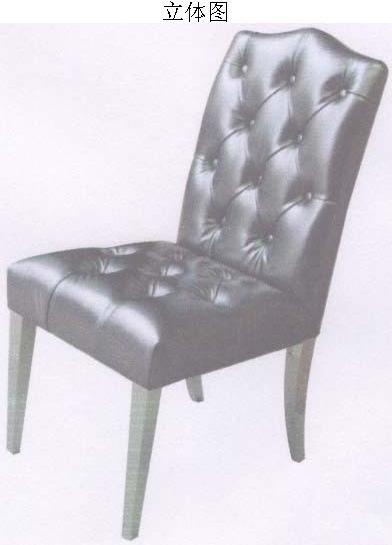obstacle: (2, 25, 389, 544)
